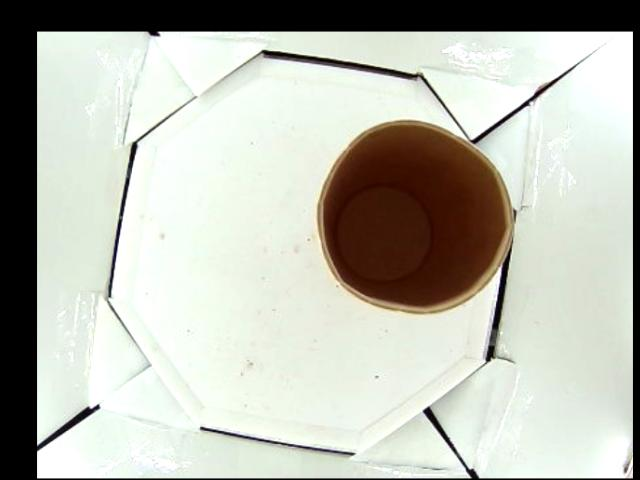Cup: (314, 120, 512, 311)
